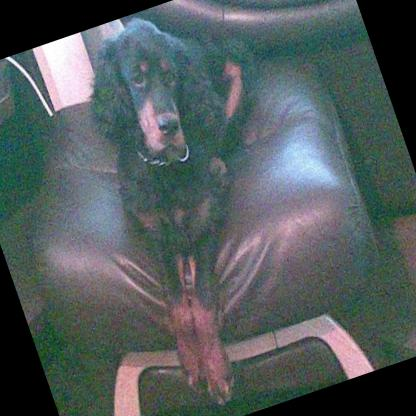Gordon_setter: (67, 0, 352, 412)
